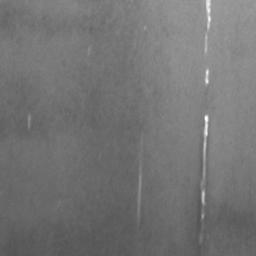Bright scratch: (201, 115, 210, 221), (206, 0, 212, 29), (205, 70, 210, 84)
